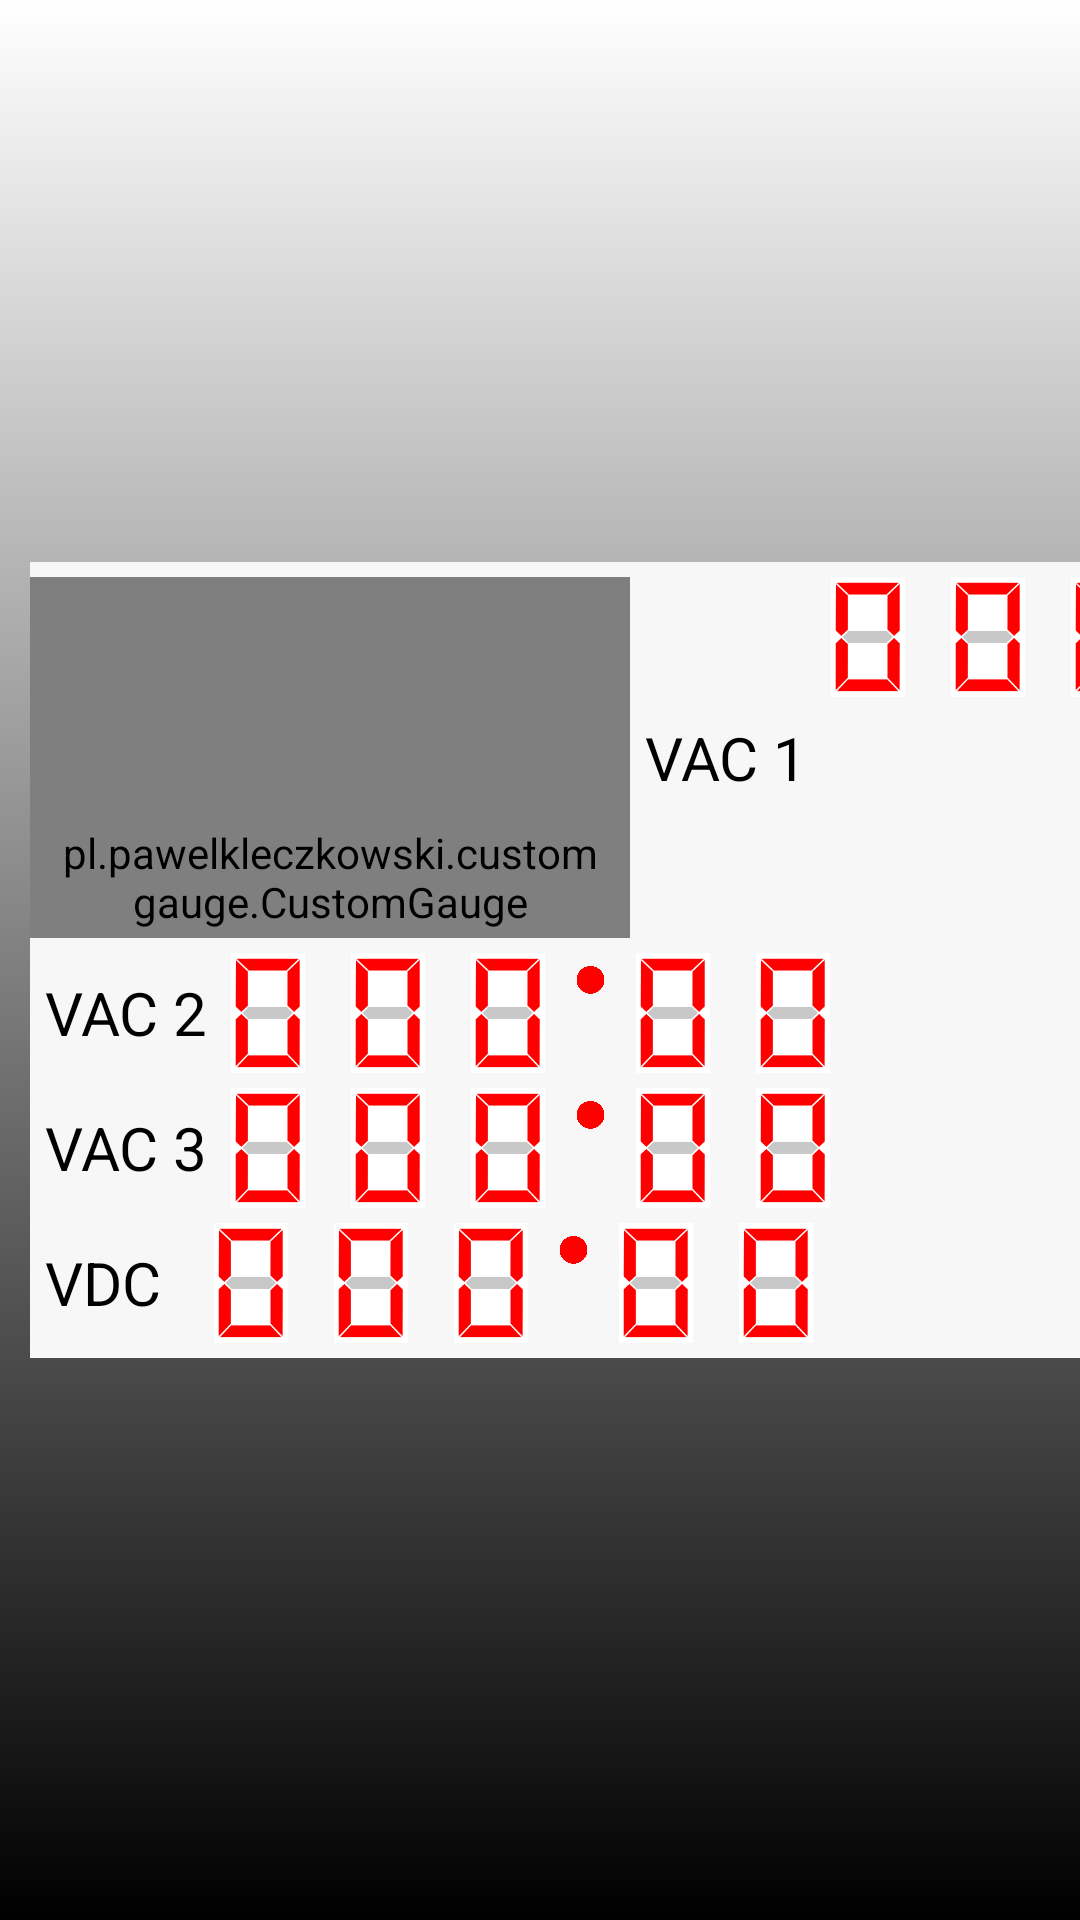

Screen size 1080px x 1920px. Icon name, then its center in pixels as (x,y):
point: (590,980), (590,1115), (573,1250)
